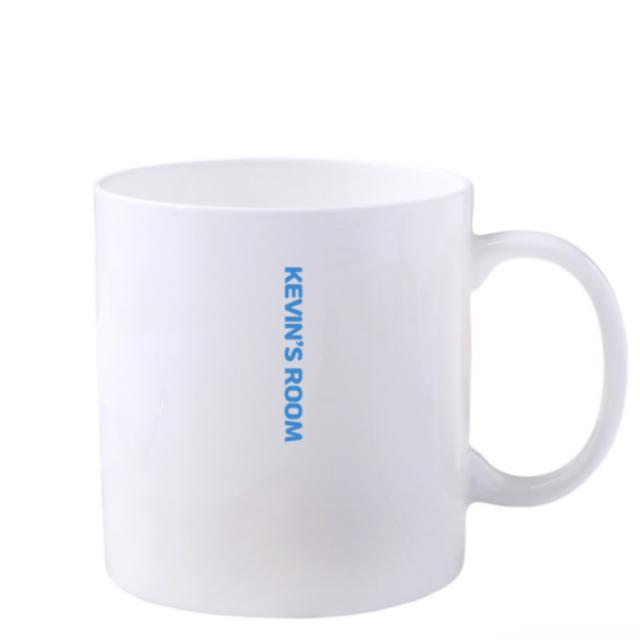recyclable: (71, 124, 636, 623)
